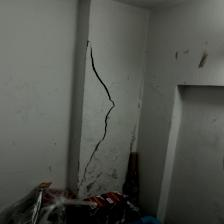High: (69, 36, 120, 194)
